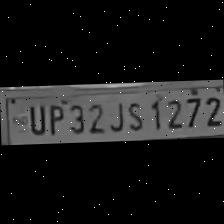1: (146, 96, 164, 131)
2: (200, 92, 222, 126), (84, 99, 104, 134), (162, 96, 182, 130)
3: (64, 100, 84, 135)
7: (182, 94, 200, 128)
J: (105, 97, 124, 132)
P: (45, 100, 63, 136)
S: (123, 96, 145, 132)
U: (26, 101, 44, 135)
